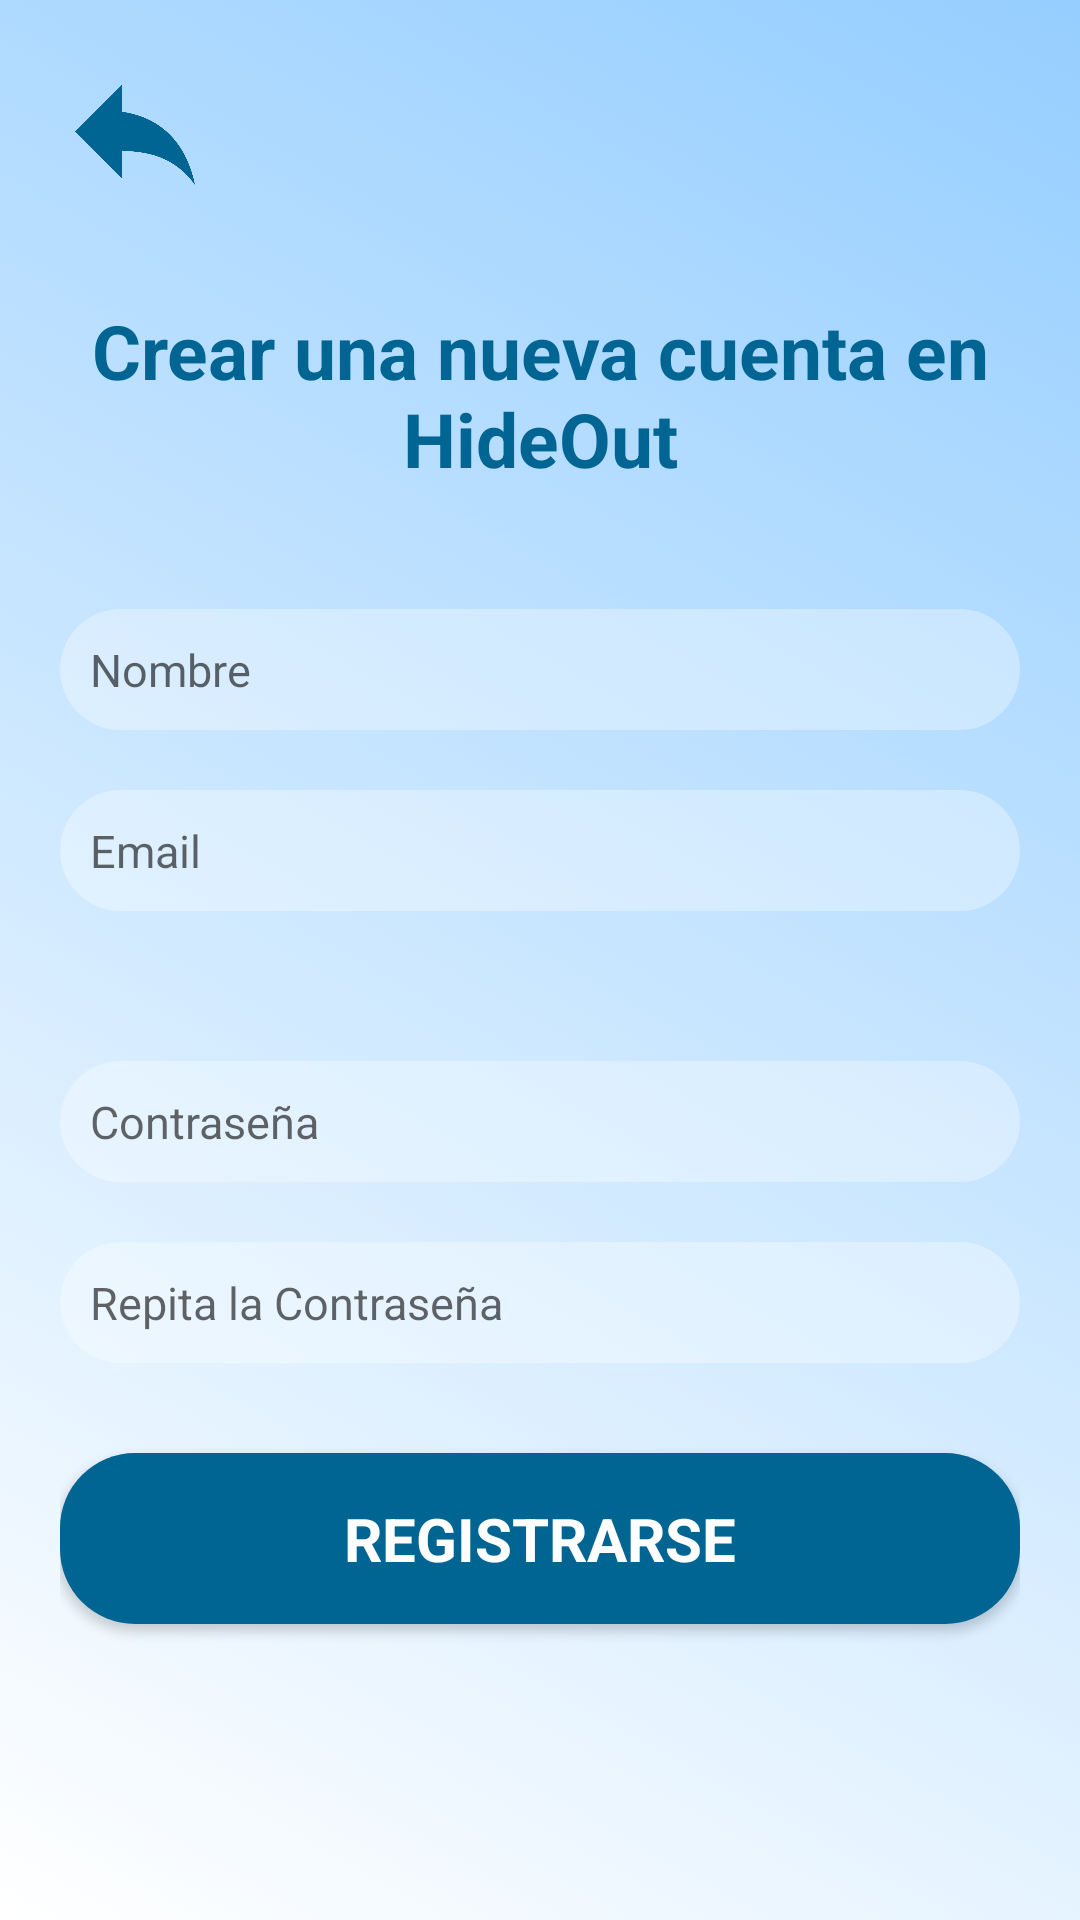

Where to tap for icons on this 1080w x 1920h app screen, as (x=x, y=y):
backarrowb: (x=135, y=135)
